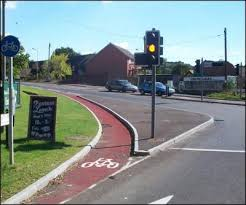signal: (144, 26, 161, 65)
